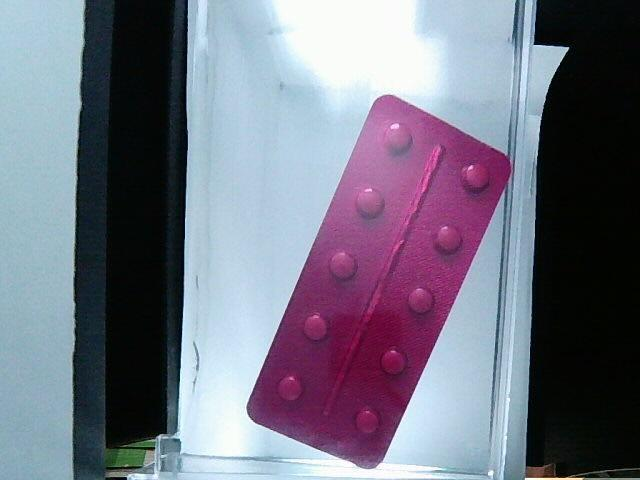Light Front: (245, 95, 512, 470)
Pill Front: (462, 160, 493, 195), (351, 406, 381, 439), (407, 283, 438, 314), (354, 186, 386, 216), (302, 315, 332, 344), (435, 224, 464, 252), (328, 251, 357, 279), (276, 376, 305, 404), (381, 348, 408, 378), (385, 123, 412, 150)
